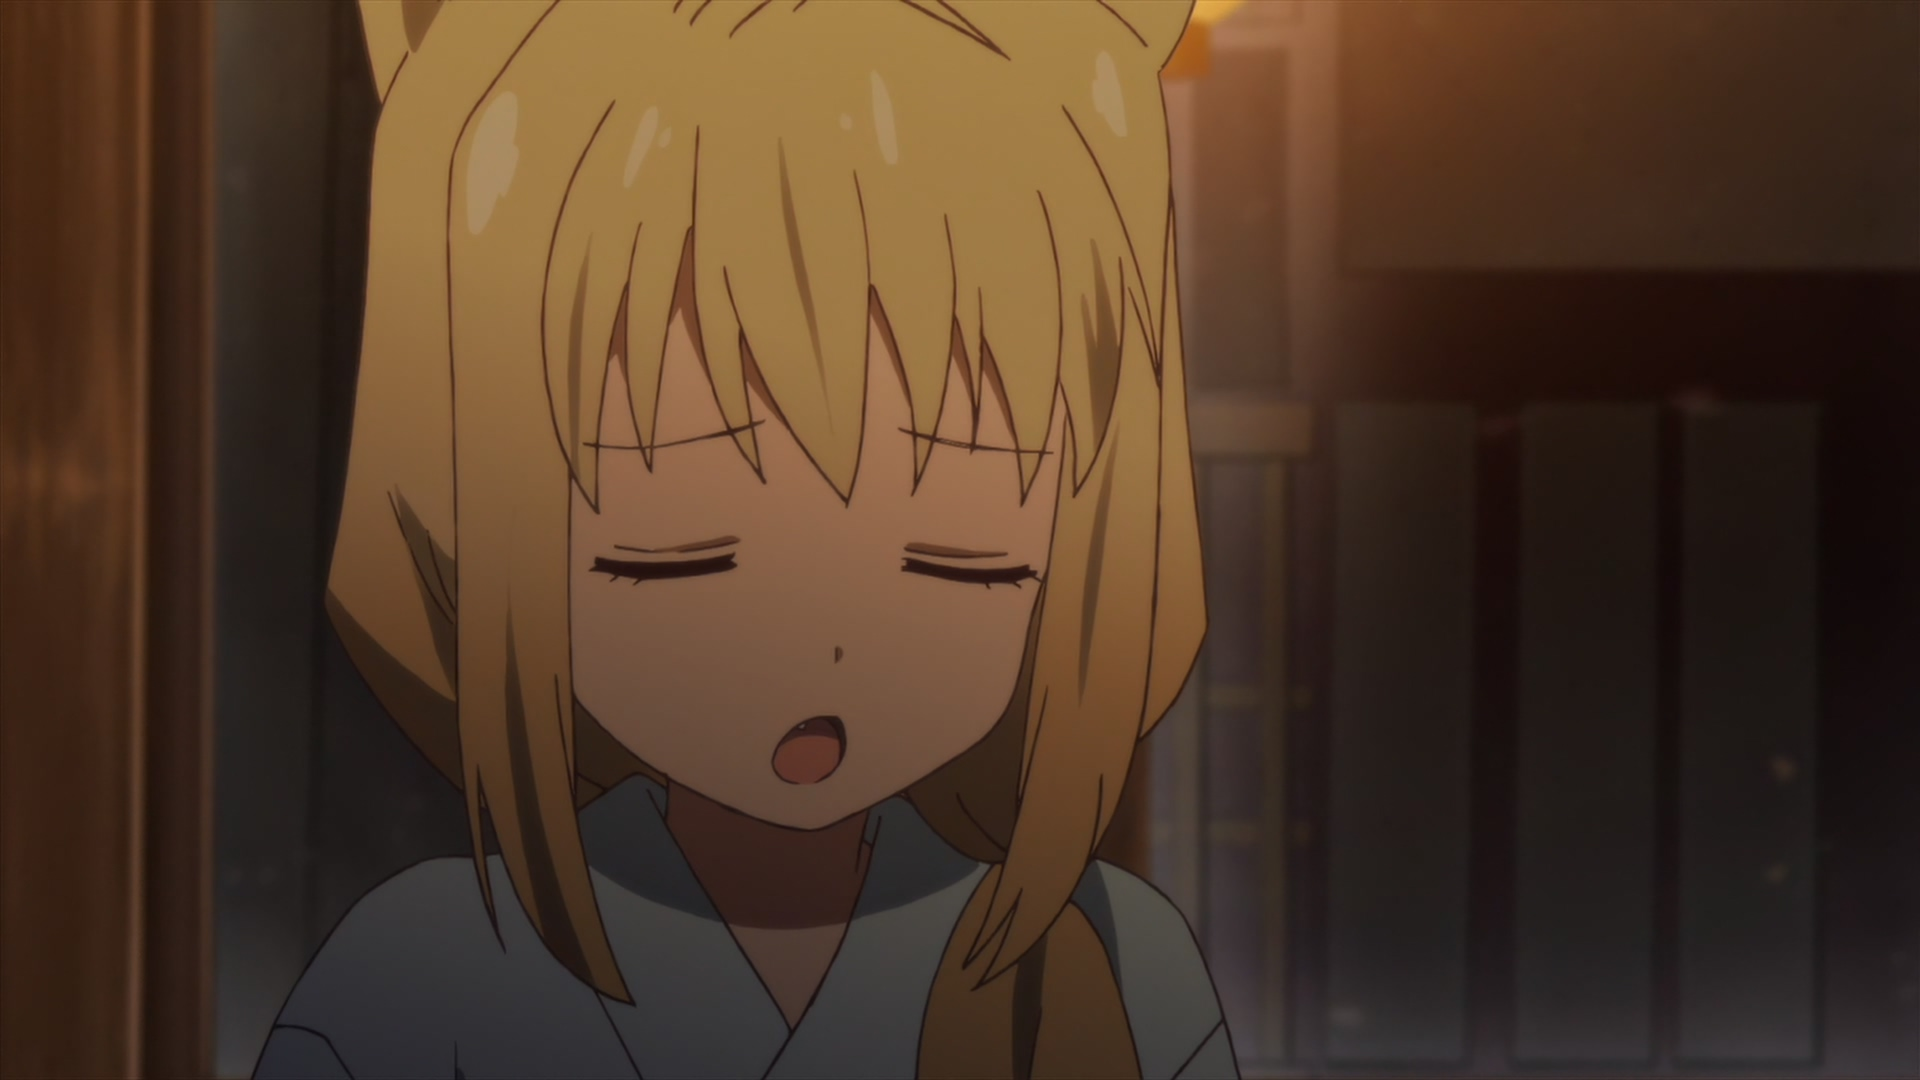桐: (251, 1, 1240, 1080)
